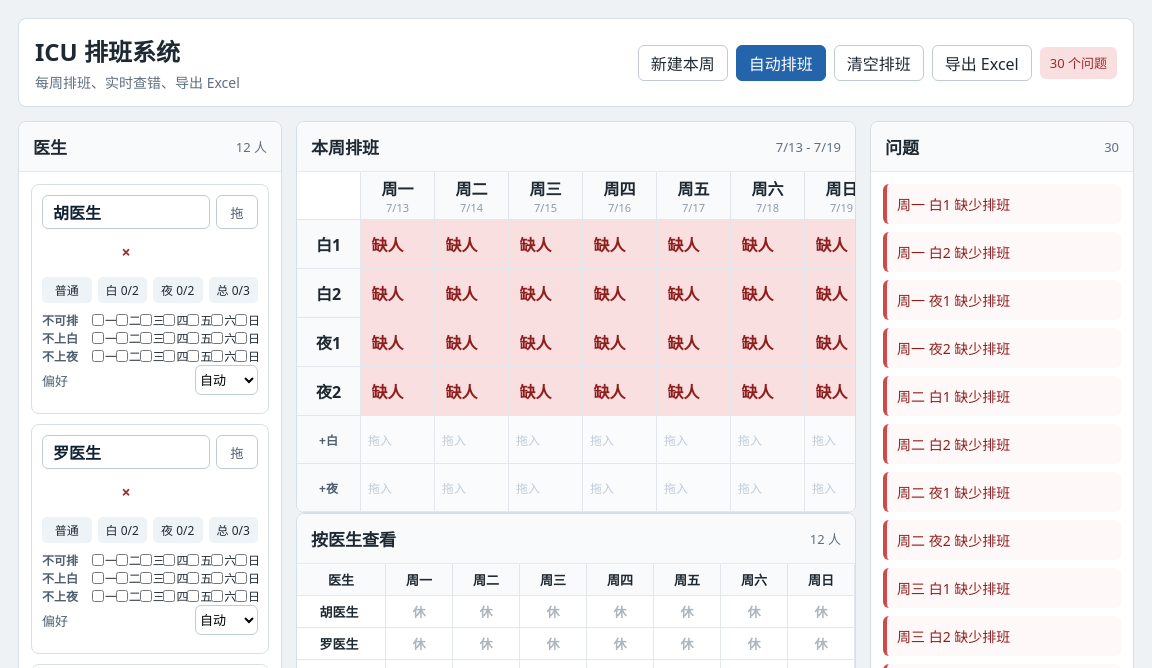
allows clearing one assigned shift without clearing the whole week
Click the field showing "胡医生".
click(126, 212)  # box left=42, top=195, right=210, bottom=229
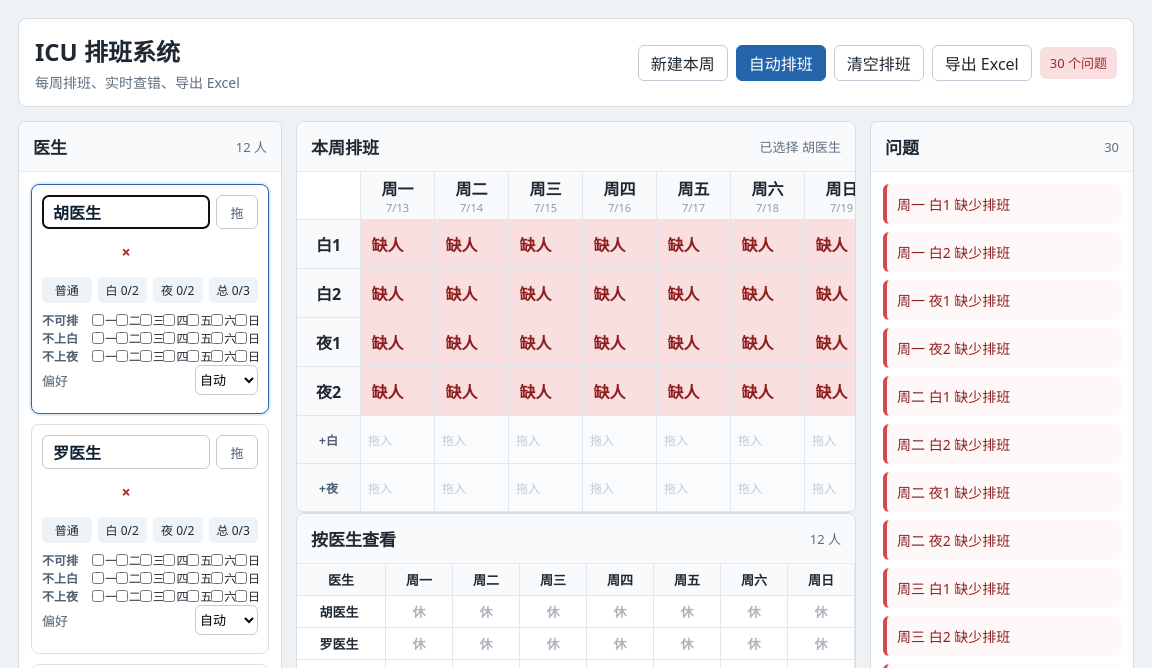
Click the 1st button "缺人".
click(398, 244)  # box left=361, top=220, right=434, bottom=268
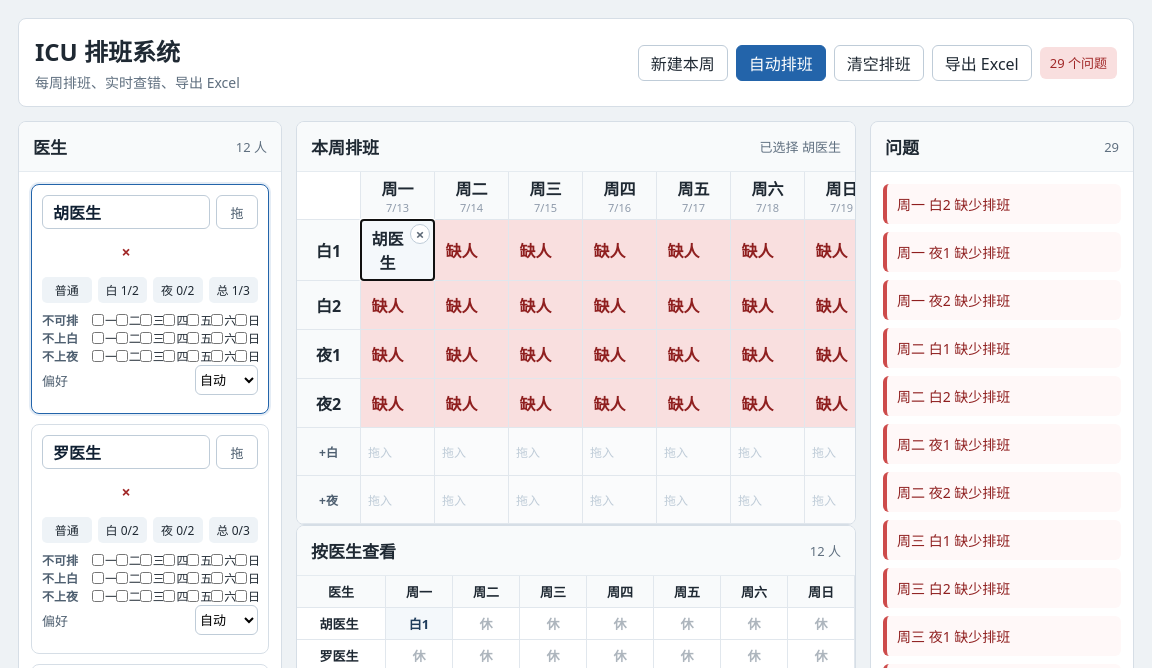
Now the button "胡医生" is shown, box left=361, top=220, right=434, bottom=280
Click the button named "清除 周一 白1 胡医生".
click(420, 234)  # box left=410, top=224, right=430, bottom=244
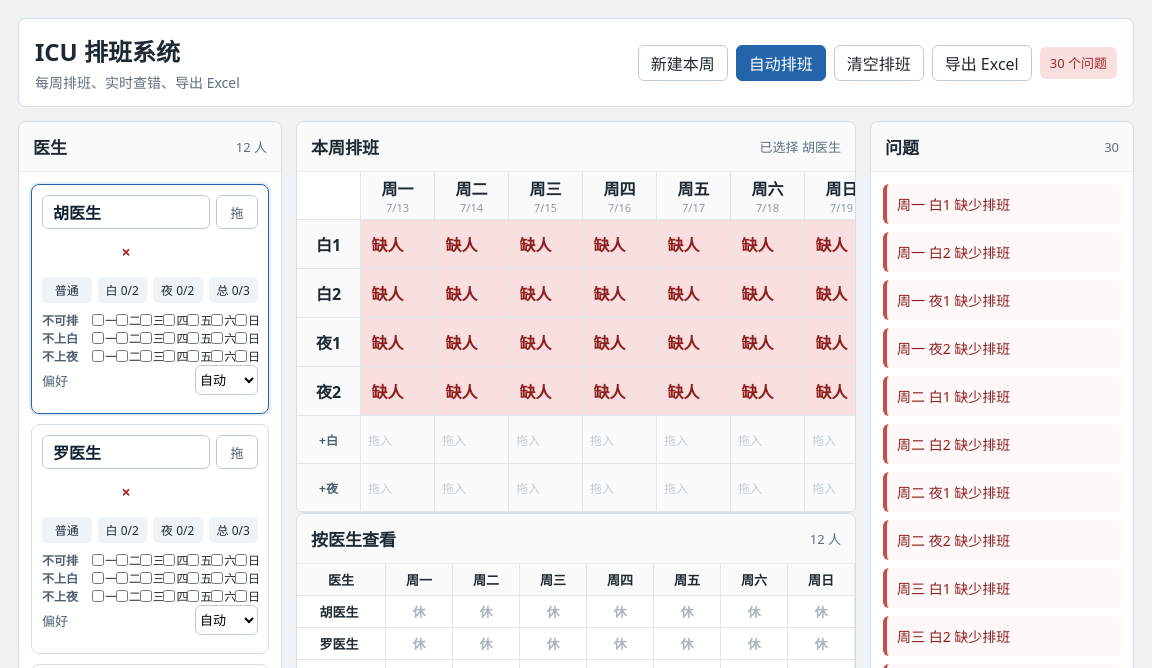
Now the 1st button "缺人" is shown, box left=361, top=220, right=434, bottom=268
